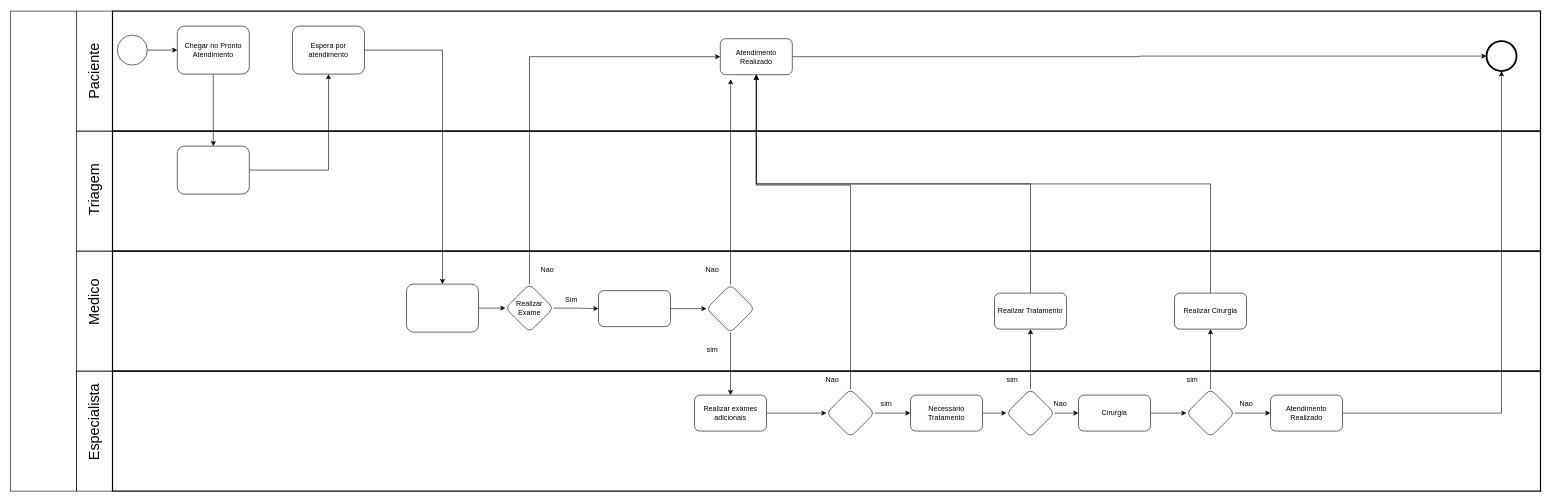
Some shapes in this 1552 by 502 pixel diagram are drawn without their labels. The centre of each missing label's shape, as x and y in pixels:
Atendimento Concluido: the point at 1501,55
Faz o Atendimento: the point at 442,308
Medir pressao e peso: the point at 213,170
Passar no Especialista: the point at 634,308
Processo de Atendimento: the point at 43,250
